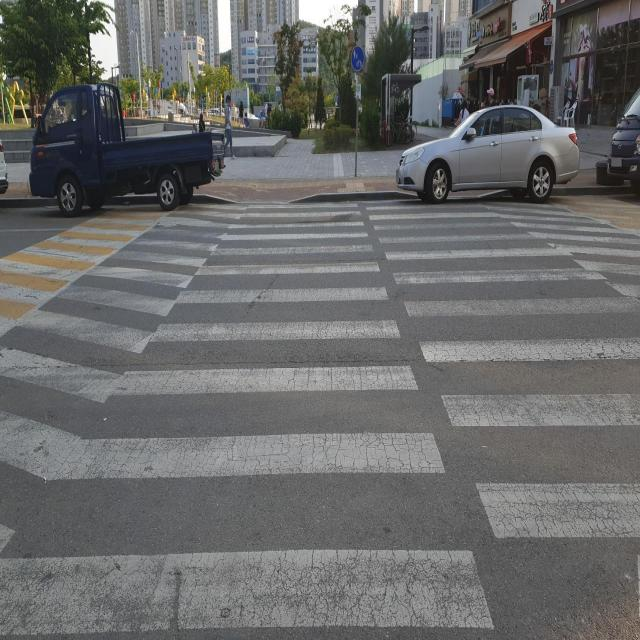횡단보도: (0, 196, 640, 640)
